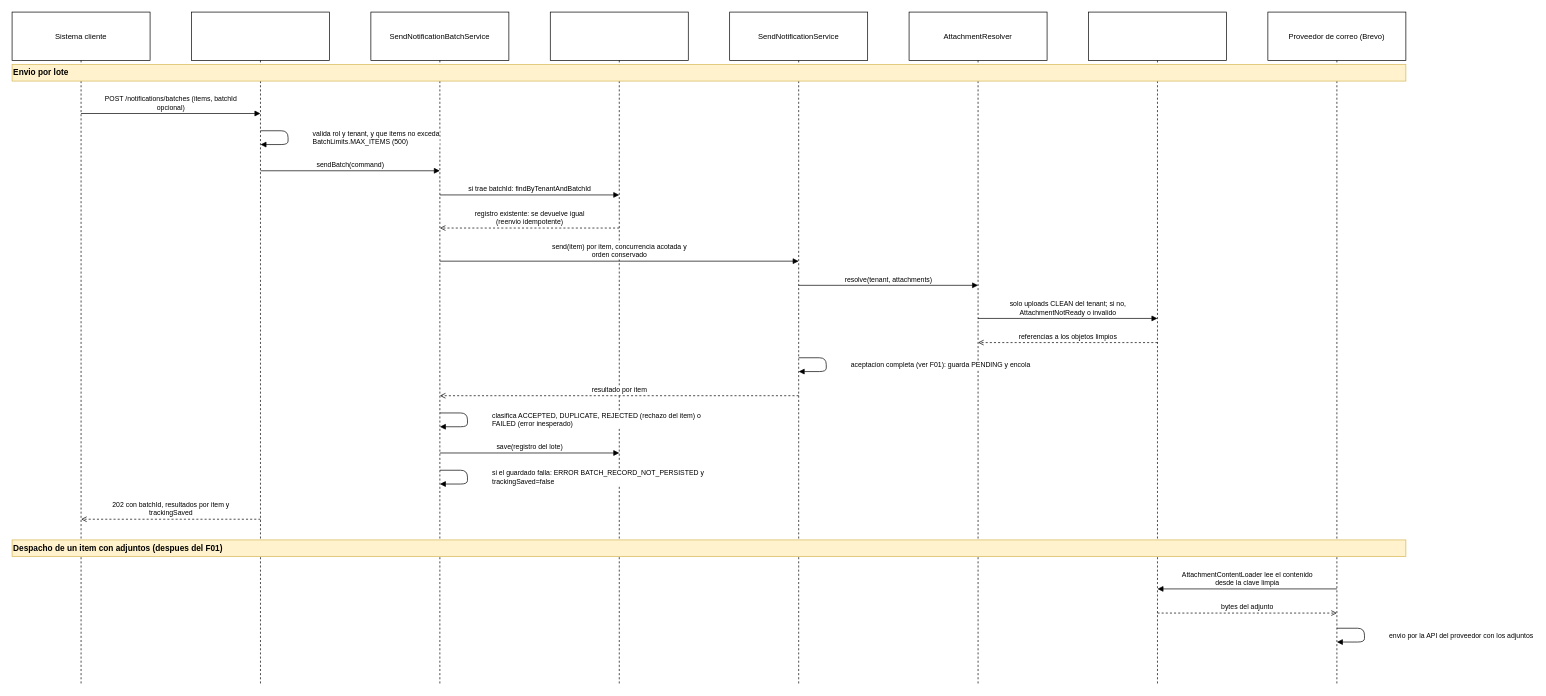
Image size: 1546x696. Some labels were removed from this diagram. The shapes that lost their labels are listed below. From the top down, each one's box as (x1, y1, x2, y2) in pixels, then its label:
(191, 11, 329, 683): API (NotificationBatchController)
(550, 11, 688, 683): NotificationBatchRepository (Mongo)
(1088, 11, 1226, 683): AttachmentStoragePort / repositorio de uploads
